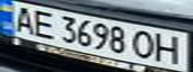3: (54, 14, 78, 45)
6: (72, 18, 93, 48)
8: (109, 24, 130, 55)
9: (90, 20, 112, 52)
A: (6, 3, 39, 34)
E: (27, 8, 60, 39)
H: (151, 32, 187, 65)
O: (130, 28, 160, 61)
